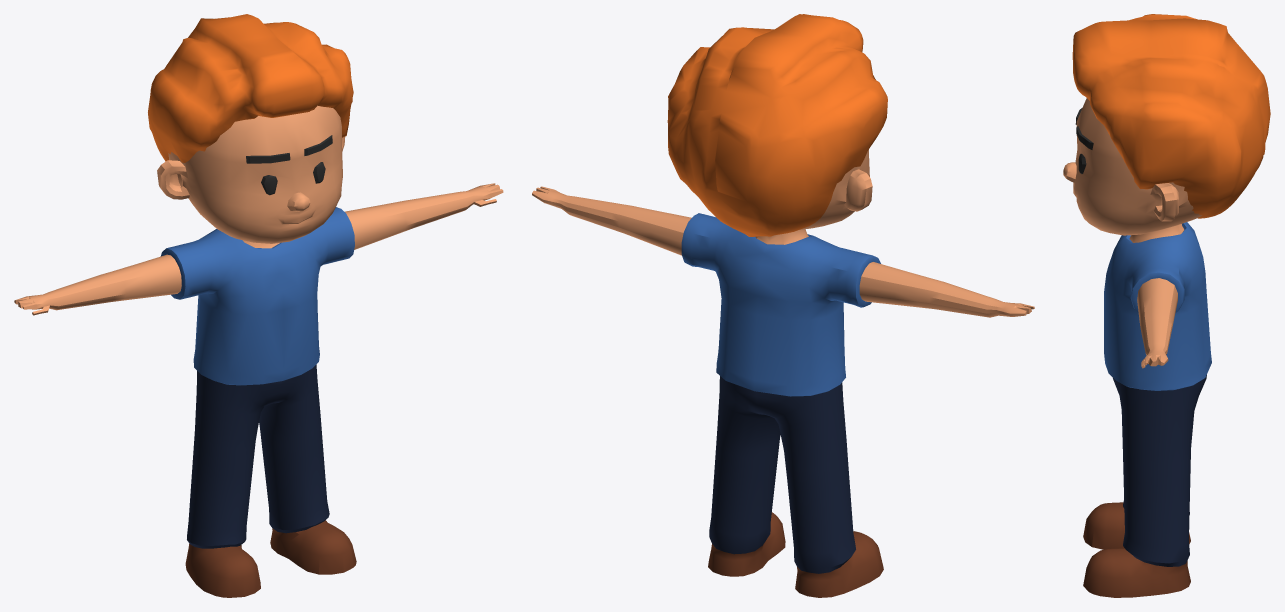
File: rory_abdulrezzaq.fbx
The picture shows the model from 3 angles, left to right: view 1: azimuth 30°, elevation 25°; view 2: azimuth 150°, elevation 25°; view 3: azimuth 270°, elevation 25°; orthographic projection. The views are drawn at different scales.
Parts seen in each view (by area): view 1: body.002; view 2: body.002; view 3: body.002.
Boxes of the visible parts, left/top/right/bottom form: body.002: left=14, top=14, right=503, bottom=597; body.002: left=532, top=14, right=1034, bottom=597; body.002: left=1063, top=14, right=1270, bottom=597.
Bounding box in the file's own units: 113 × 118 × 41.8.
